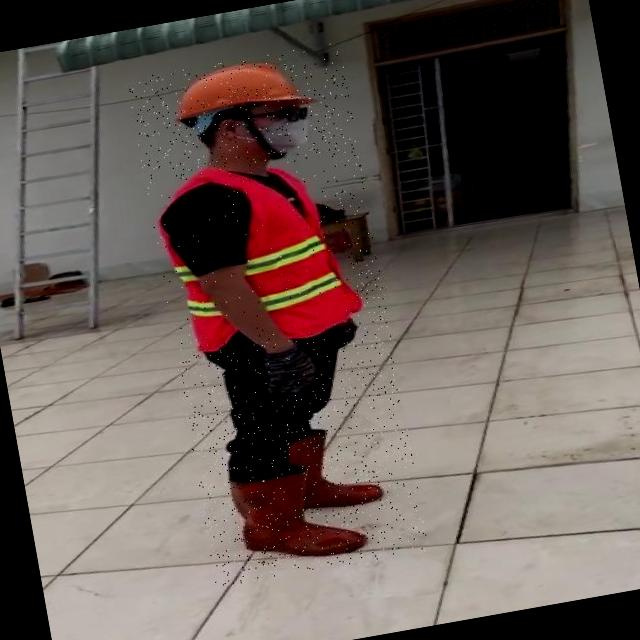boots: (245, 414, 388, 526), (228, 458, 366, 572)
gloves: (237, 321, 324, 406)
helmet: (167, 52, 314, 126)
vest: (144, 154, 360, 358)
